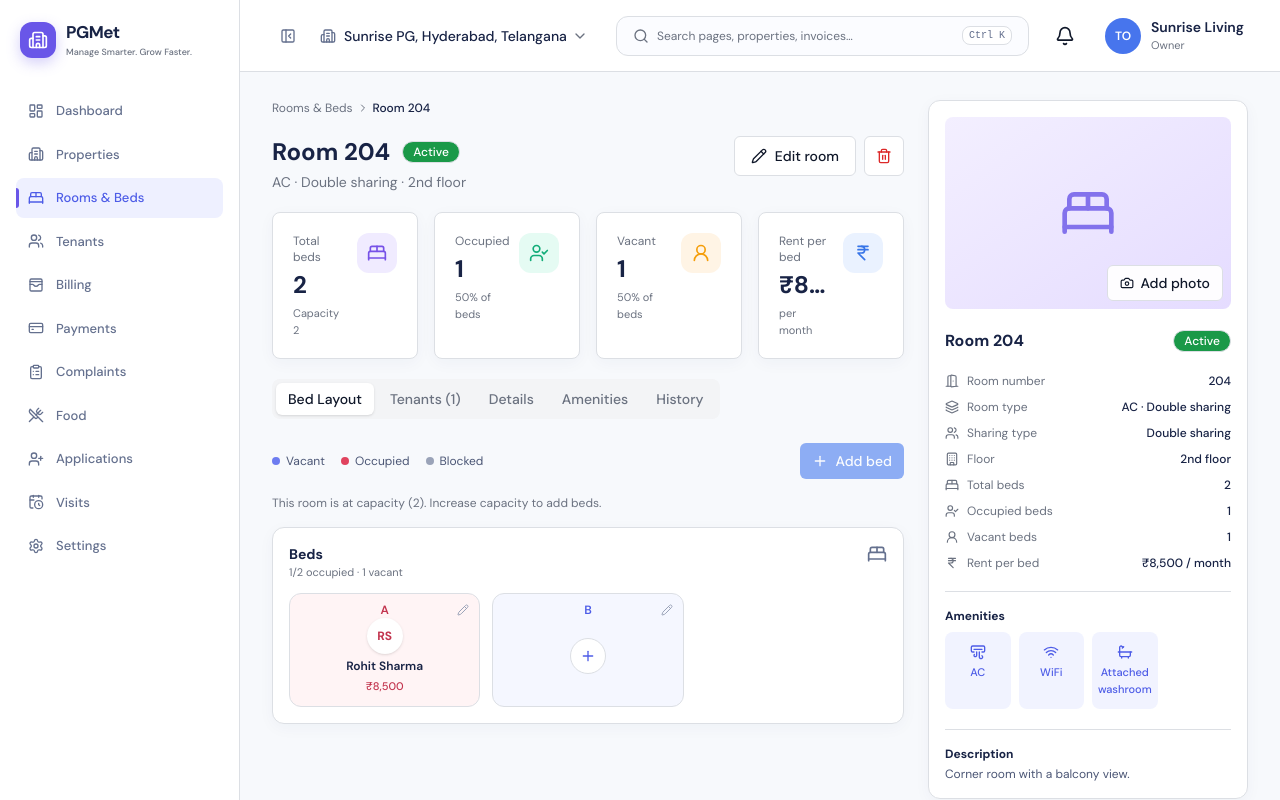
Scenario: Room detail page › rejects an unsafe photo link before sending it
Click the button "Add photo" at (1165, 283), box [1107, 265, 1223, 301]
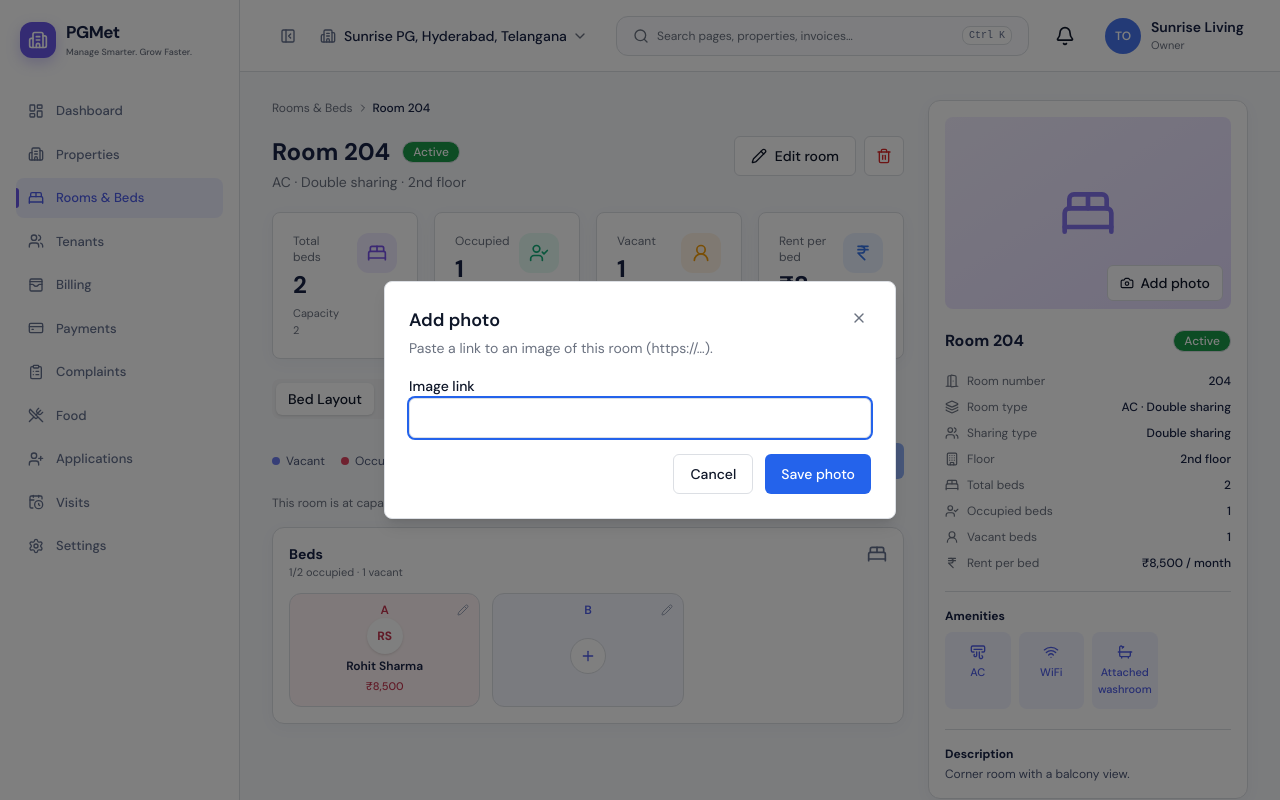
Type "javascript:alert(1)" into the field labelled "Image link" at (640, 418), box [409, 398, 871, 438]
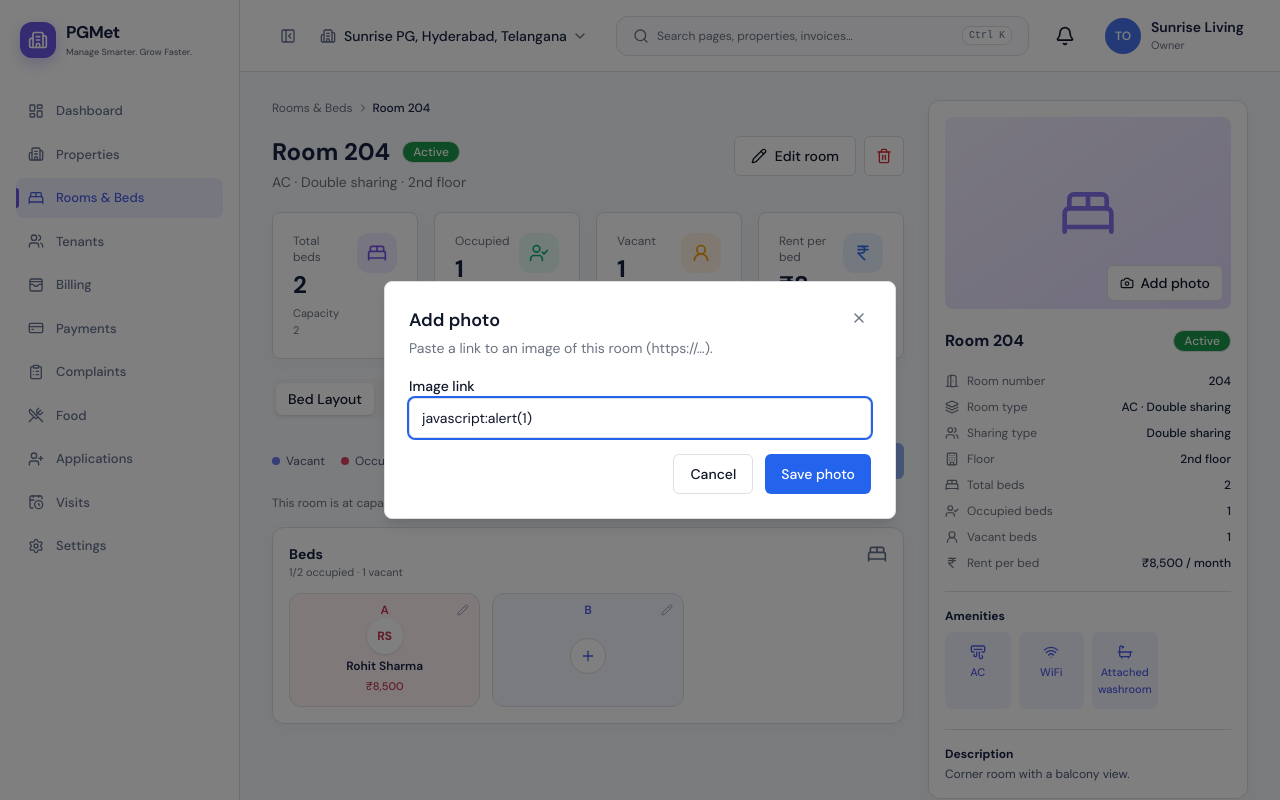
Click the button "Save photo" at (818, 474), box [765, 454, 871, 494]
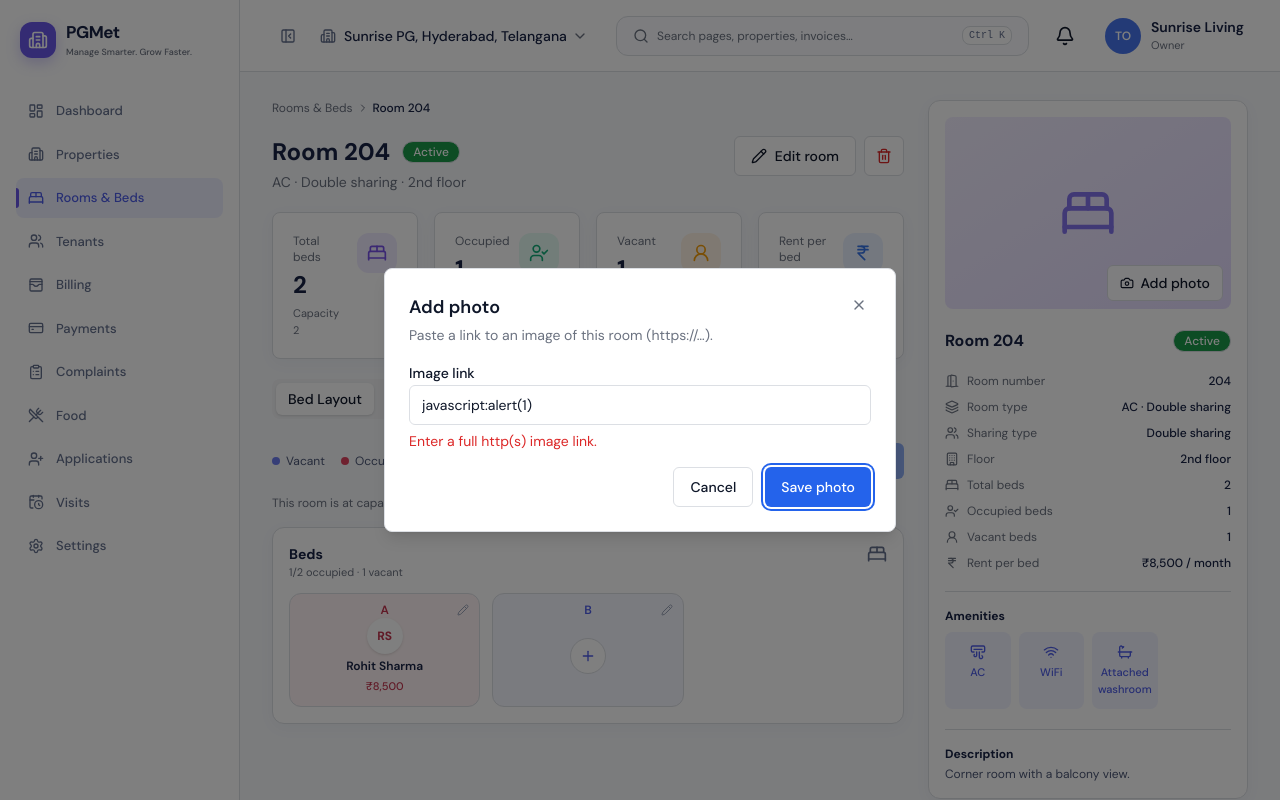
Expected: the message shows "http(s)", [409, 432, 597, 450]
